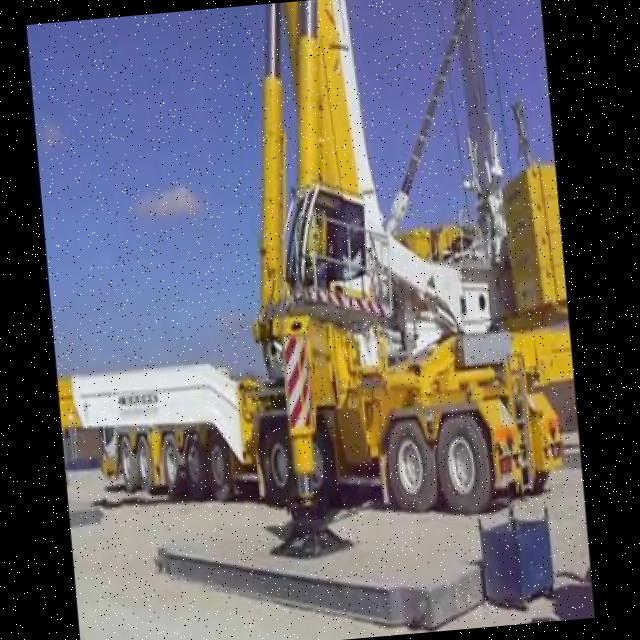Mobile Crane: (24, 0, 586, 565)
